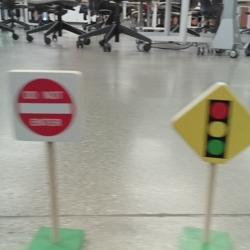do_not_enter: (7, 70, 83, 142)
traffic_signal: (169, 81, 250, 165)
